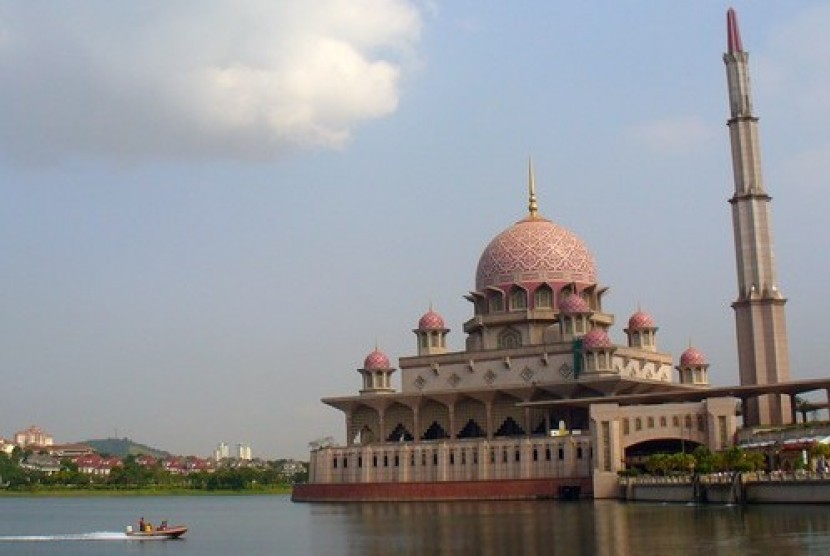Mosque: (311, 4, 788, 488)
